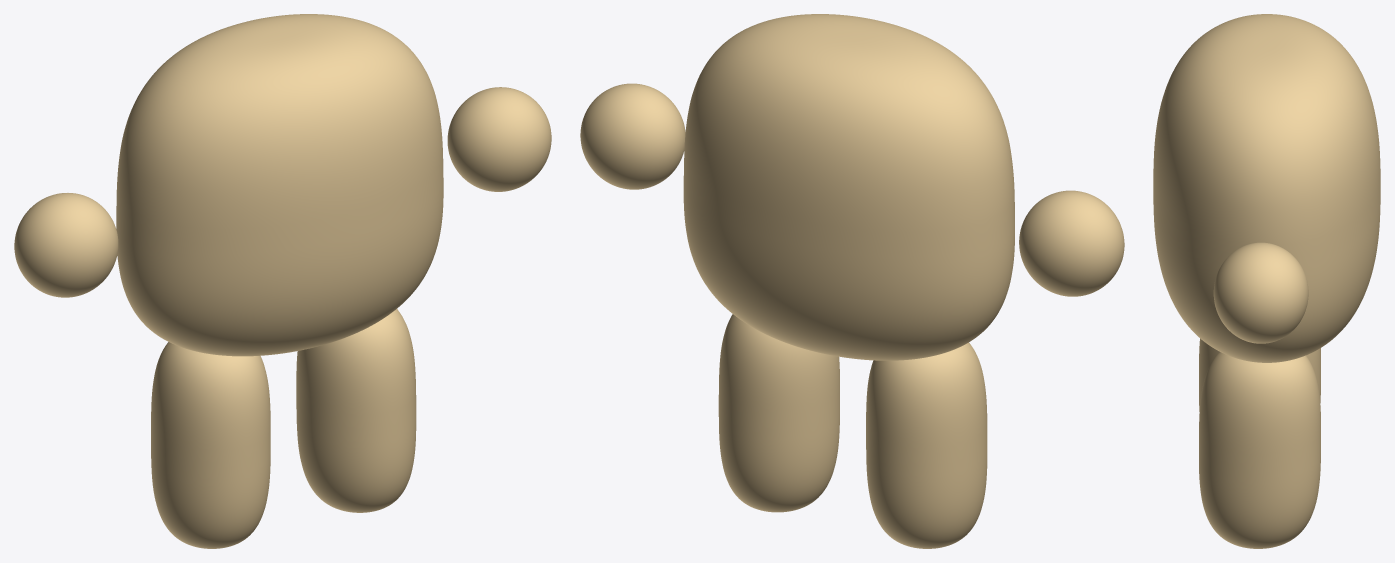
File: body-Feminine-original.glb
3 renders of one model, left to right at view 1: azimuth 30°, elevation 25°; view 2: azimuth 150°, elevation 25°; view 3: azimuth 270°, elevation 25°, orthographic. The views are drawn at different scales.
Visible parts, largest first — view 1: Skin / compact torso with skirt outline, Skin / leg -1, Skin / leg 1, Skin / hand -1, Skin / hand 1; view 2: Skin / compact torso with skirt outline, Skin / leg -1, Skin / leg 1, Skin / hand -1, Skin / hand 1; view 3: Skin / compact torso with skirt outline, Skin / leg 1, Skin / hand 1, Skin / leg -1.
Boxes of the visible parts, x1=… form: Skin / compact torso with skirt outline: x1=116, y1=14, x2=443, y2=356; Skin / leg -1: x1=151, y1=342, x2=270, y2=548; Skin / leg 1: x1=296, y1=309, x2=416, y2=512; Skin / hand -1: x1=14, y1=193, x2=118, y2=297; Skin / hand 1: x1=447, y1=87, x2=551, y2=191; Skin / compact torso with skirt outline: x1=683, y1=14, x2=1014, y2=360; Skin / leg -1: x1=866, y1=342, x2=987, y2=548; Skin / leg 1: x1=718, y1=314, x2=839, y2=512; Skin / hand -1: x1=1019, y1=190, x2=1124, y2=296; Skin / hand 1: x1=580, y1=83, x2=685, y2=189; Skin / compact torso with skirt outline: x1=1153, y1=14, x2=1380, y2=362; Skin / leg 1: x1=1199, y1=352, x2=1320, y2=548; Skin / hand 1: x1=1213, y1=242, x2=1308, y2=343; Skin / leg -1: x1=1199, y1=338, x2=1320, y2=411.
Size of the model in its own units: 1.49 by 1.31 by 0.584.
